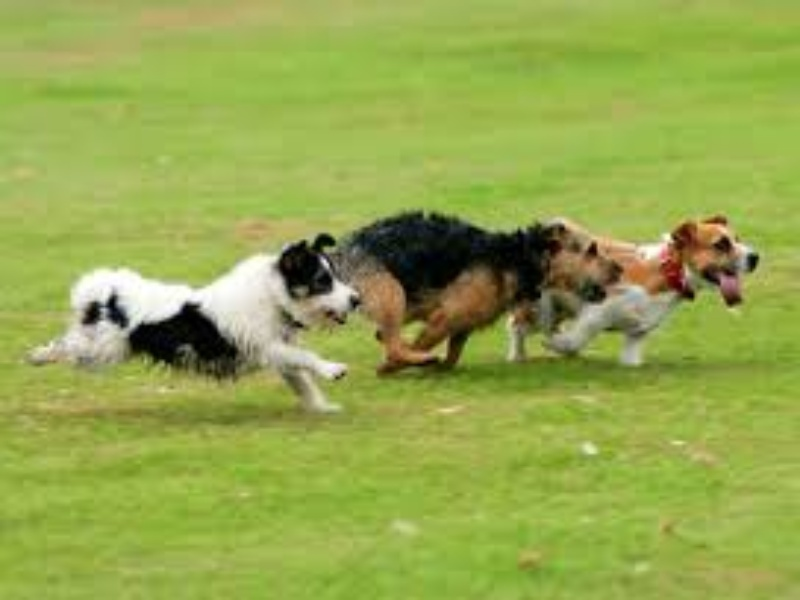dog: (23, 234, 377, 420), (342, 196, 623, 387), (623, 197, 763, 368)
